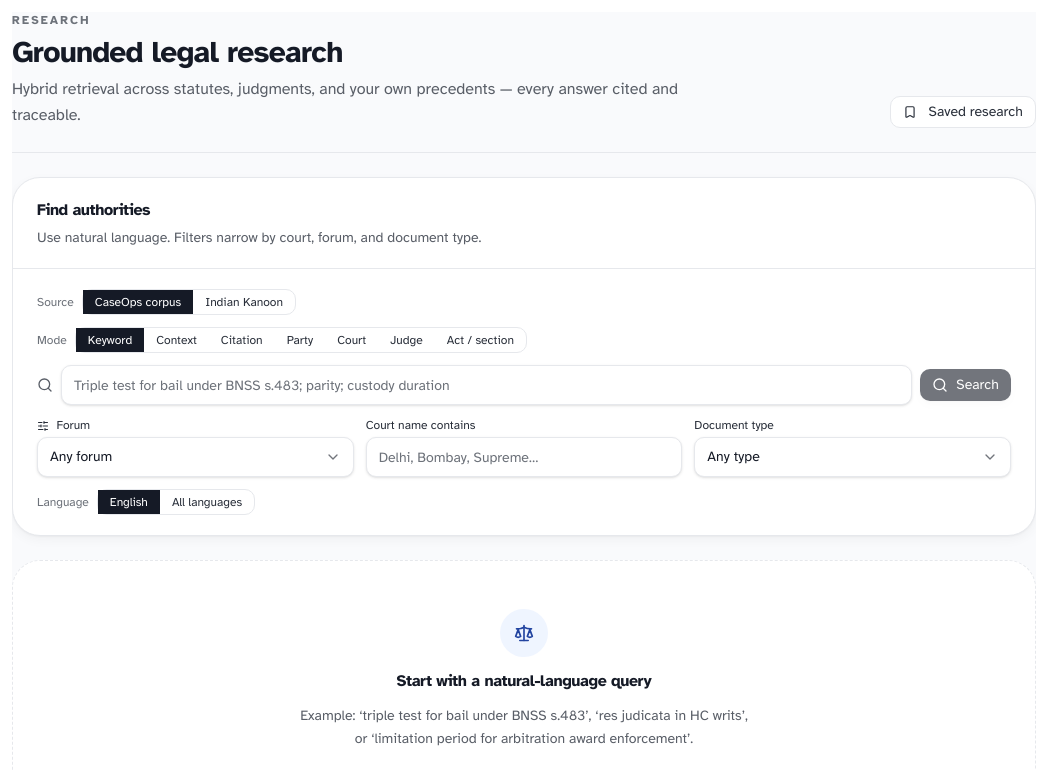
Test case: ResearchPage › uses search coverage without issuing a competing corpus-stats request
This screenshot has width=1048, height=770.
Step 1. Replace the text in the field with test id "research-query-input" with "bail application" → (487, 385), box [61,365,912,405]
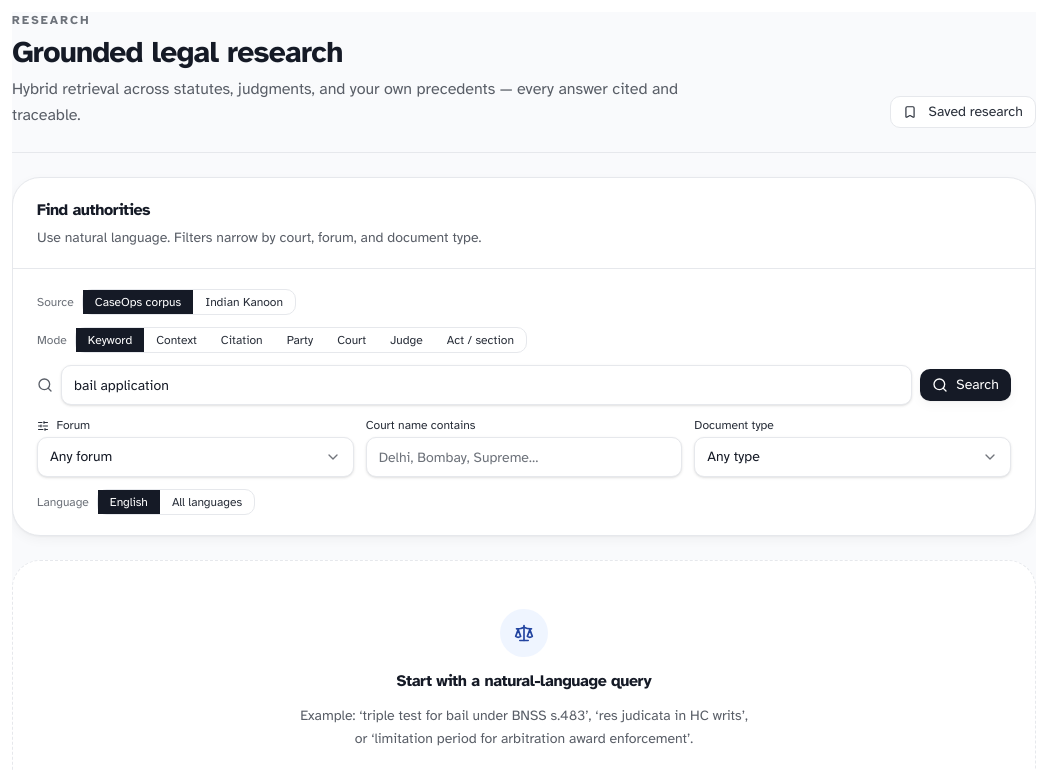
Step 2. Click the button with test id "research-query-submit" → click(966, 385), box [920,369,1011,401]
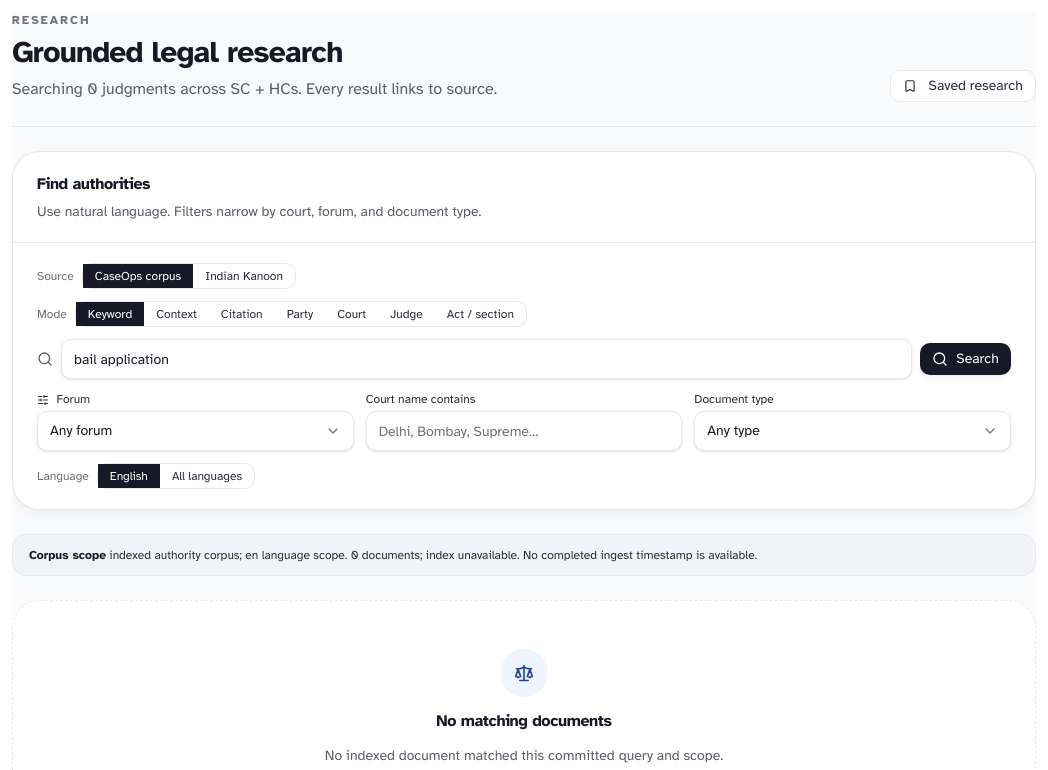
Check: the text "Searching 0 judgments across SC + HCs. Every result links to source." is shown, box [12,76,497,102]
